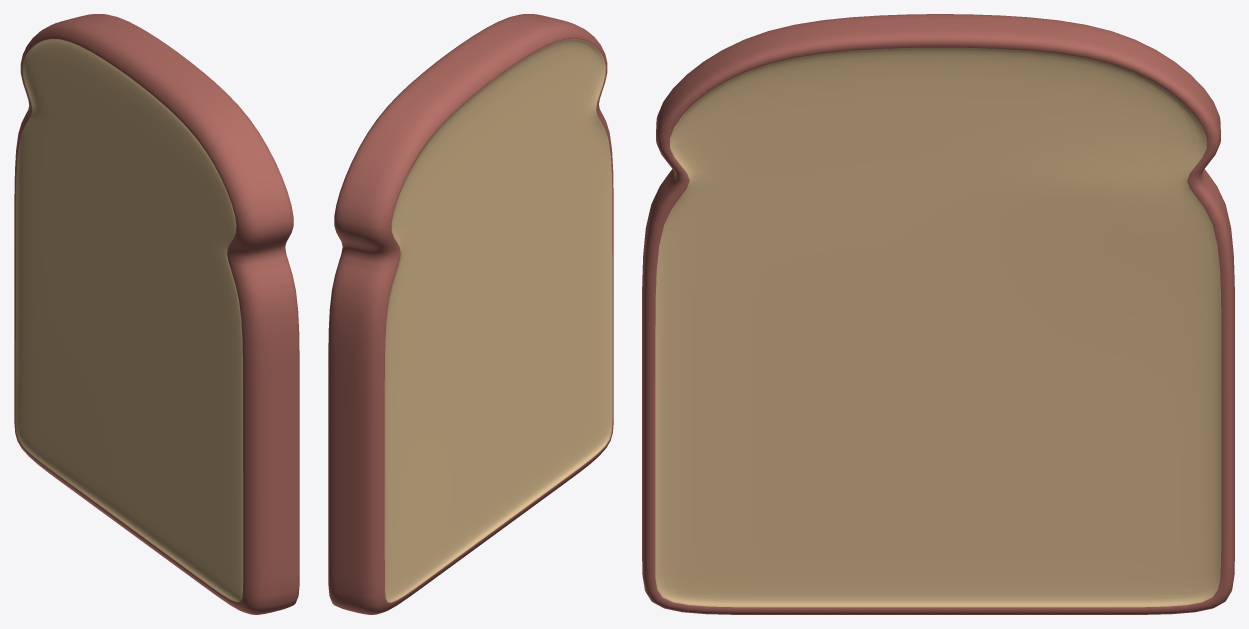
File: TajadaPan.fbx
The picture shows the model from 3 angles, left to right: view 1: azimuth 30°, elevation 25°; view 2: azimuth 150°, elevation 25°; view 3: azimuth 270°, elevation 25°; orthographic projection. The views are drawn at different scales.
Parts seen in each view (by area): view 1: Plane; view 2: Plane; view 3: Plane.
Part boxes in pixels (left/top/right/bottom): Plane: left=14, top=14, right=299, bottom=614; Plane: left=328, top=14, right=613, bottom=614; Plane: left=642, top=14, right=1234, bottom=614.
Size of the model in its own units: 0.4672 by 4.16 by 3.84.
